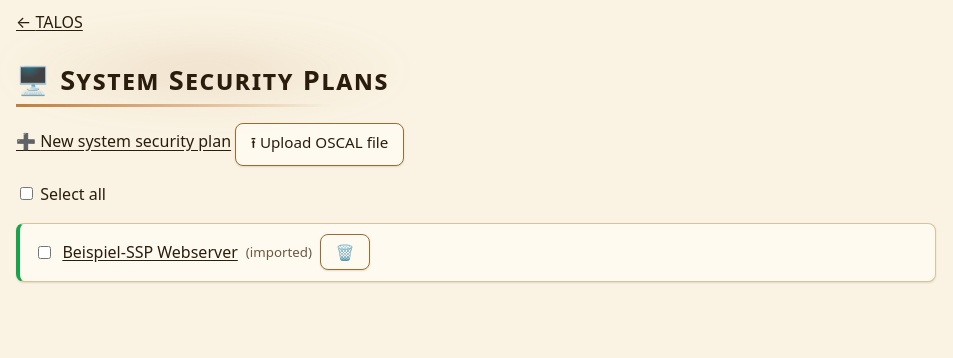
bulk selection (ADR-0027) › toggles a row checkbox and shows/hides the bulk-actions bar
This screenshot has width=953, height=358.
Click the checkbox with test id "ssp-select-item": click(45, 252) [38,246,51,259]
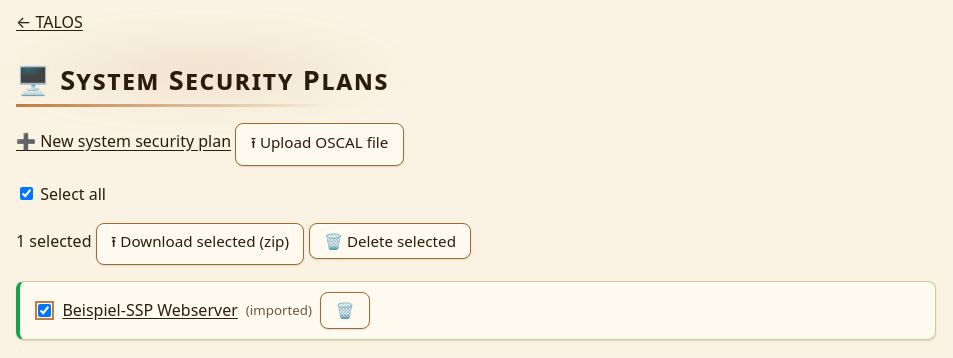
Check: the text with test id "ssp-selected-count" shows "1", box [16,230,92,252]
